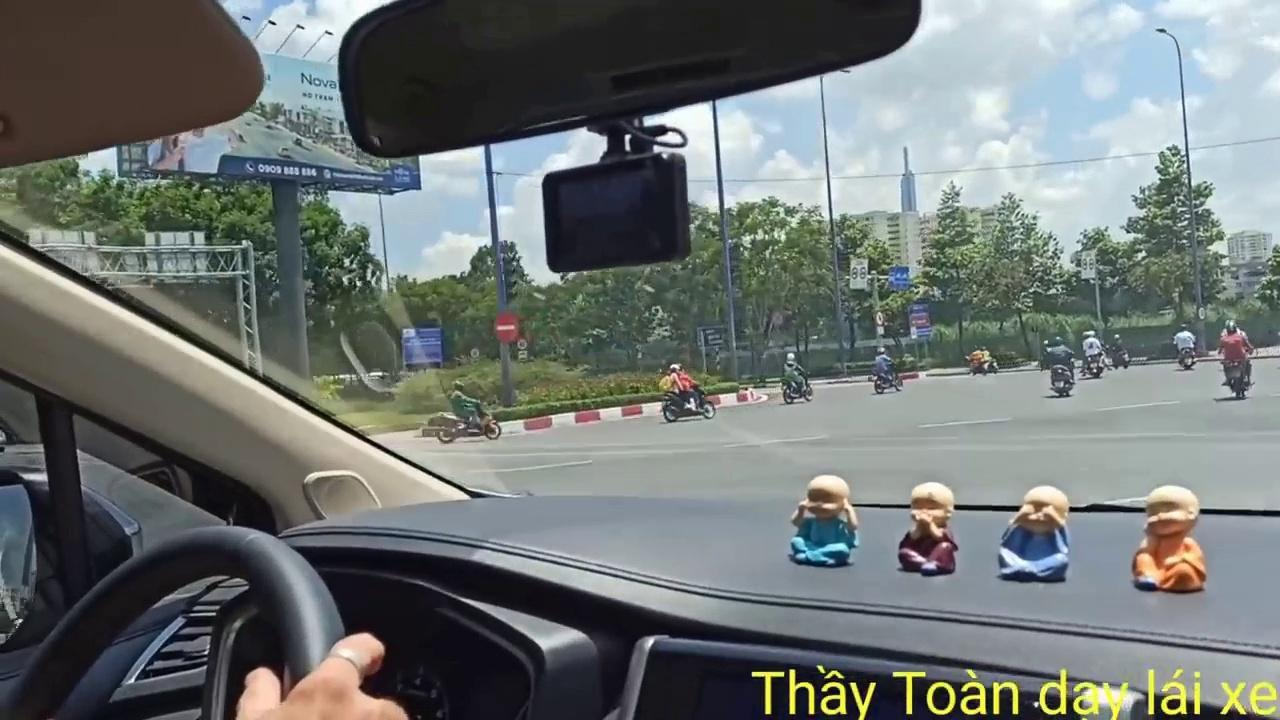Cấm cac phương tiện hoạt động trong khung giờ cố định: (850, 258, 868, 289)
Cấm đi ngược chiều: (492, 309, 522, 345)
Khác: (401, 326, 442, 365), (907, 302, 932, 341)
Làn đường cho từng xe: (888, 265, 910, 291)
